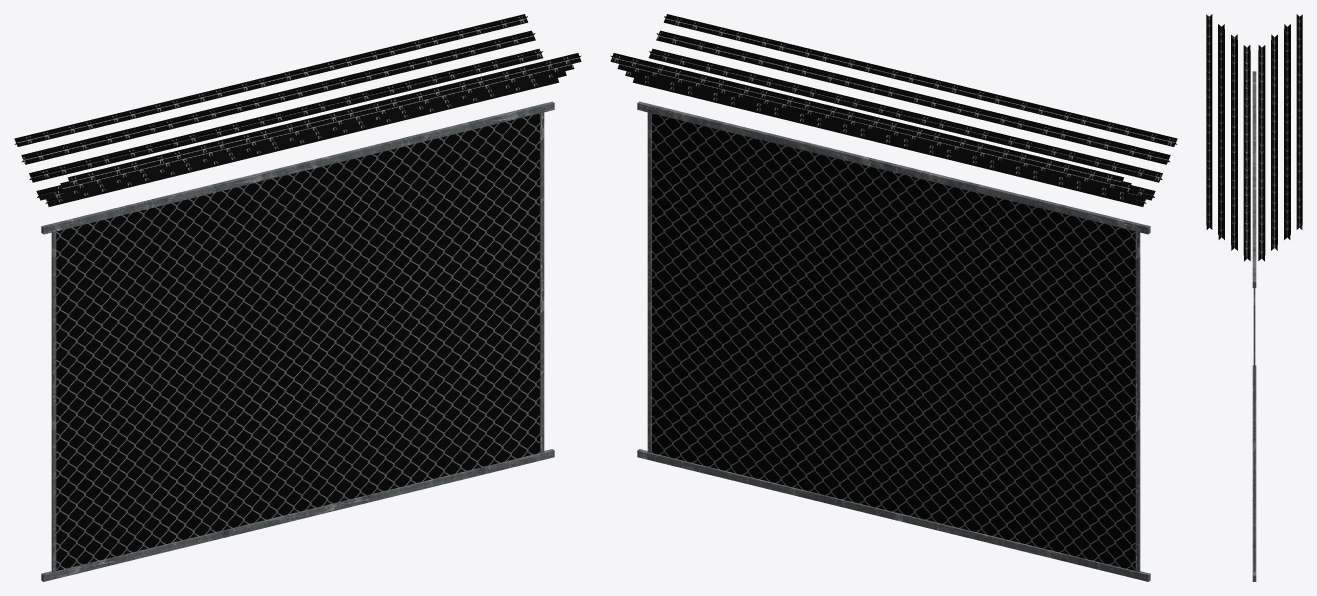
Rendered from Wire1.fbx.
3 views of the same model, side by side, from view 1: azimuth 30°, elevation 25°; view 2: azimuth 150°, elevation 25°; view 3: azimuth 270°, elevation 25° (orthographic). The views are drawn at different scales.
Parts seen in each view (by area): view 1: polySurface159; view 2: polySurface159; view 3: polySurface159.
Boxes of the visible parts, x1,y1,x2,y2 form: polySurface159: [14, 14, 581, 581]; polySurface159: [610, 14, 1177, 581]; polySurface159: [1206, 14, 1302, 581].
Bounding box in the file's own units: 4 × 3.16 × 0.7716.
Materials: 3 (3 with a texture image).
